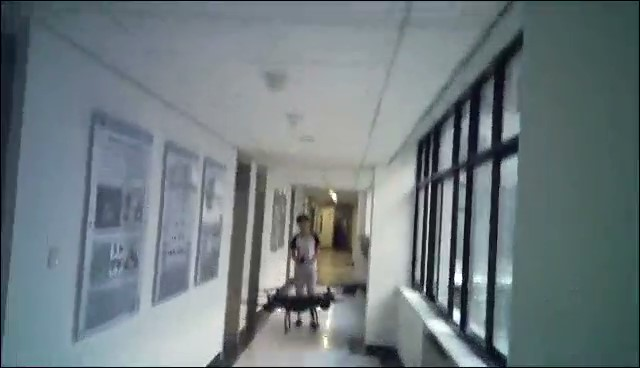drone: (256, 285, 345, 317)
person: (289, 215, 321, 333)
